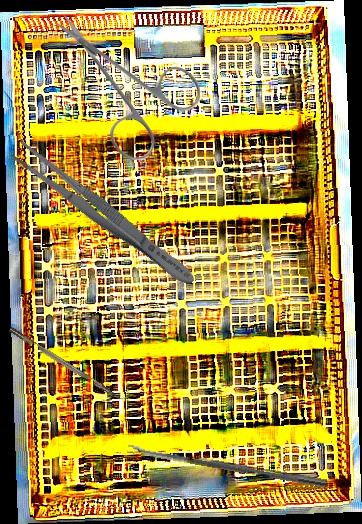Chopper: (8, 320, 130, 406)
Dressing Forceps: (6, 137, 202, 293)
Iris Scissors: (57, 15, 200, 160)
Surgical Spoon: (126, 443, 328, 488)
